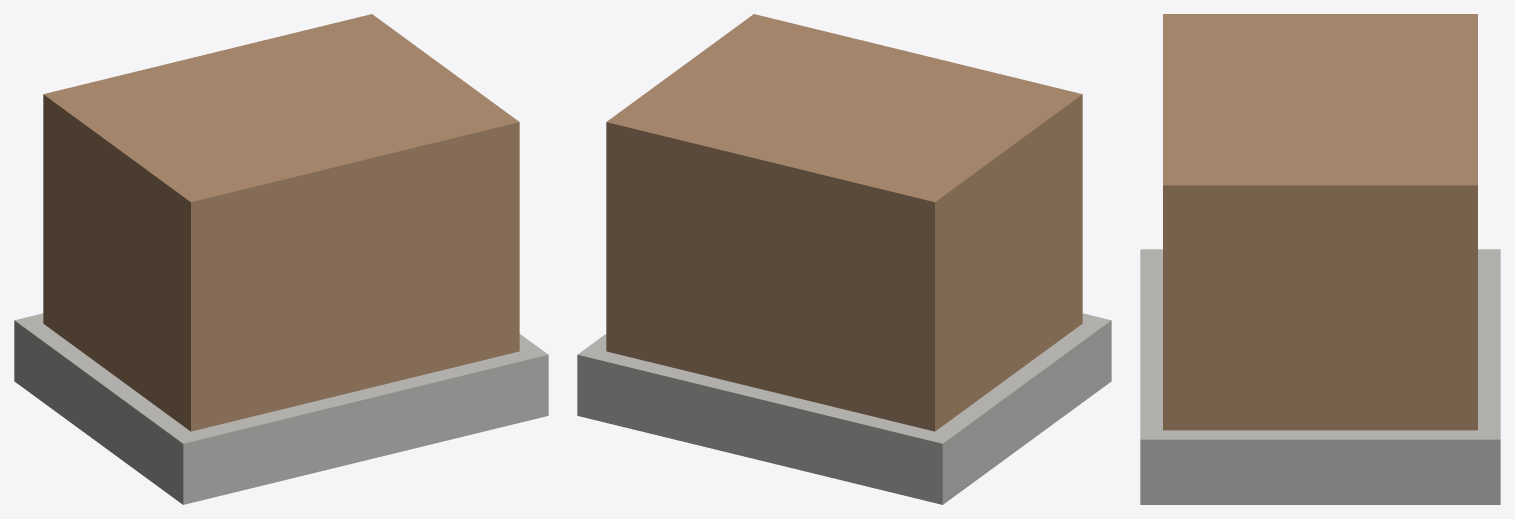
The model's file is granary.glb.
3 views of the same model, side by side, from view 1: azimuth 30°, elevation 25°; view 2: azimuth 150°, elevation 25°; view 3: azimuth 270°, elevation 25° (orthographic). The views are drawn at different scales.
Parts seen in each view (by area): view 1: GranaryBox_Node, GraniteBase_Node; view 2: GranaryBox_Node, GraniteBase_Node; view 3: GranaryBox_Node, GraniteBase_Node.
Part boxes in pixels (x1=…): GranaryBox_Node: x1=43, y1=14, x2=519, y2=431; GraniteBase_Node: x1=14, y1=313, x2=548, y2=504; GranaryBox_Node: x1=606, y1=14, x2=1082, y2=431; GraniteBase_Node: x1=577, y1=313, x2=1111, y2=504; GranaryBox_Node: x1=1163, y1=14, x2=1477, y2=430; GraniteBase_Node: x1=1140, y1=249, x2=1500, y2=504.
Bounding box in the file's own units: 5 × 3.8 × 4.
